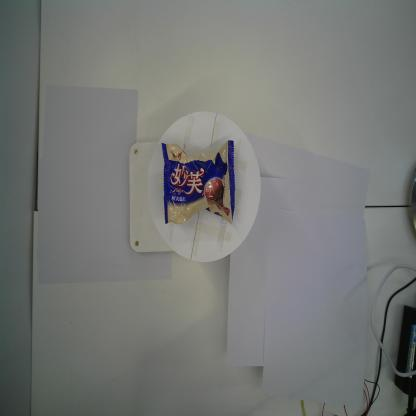Dessert: (161, 140, 236, 224)
